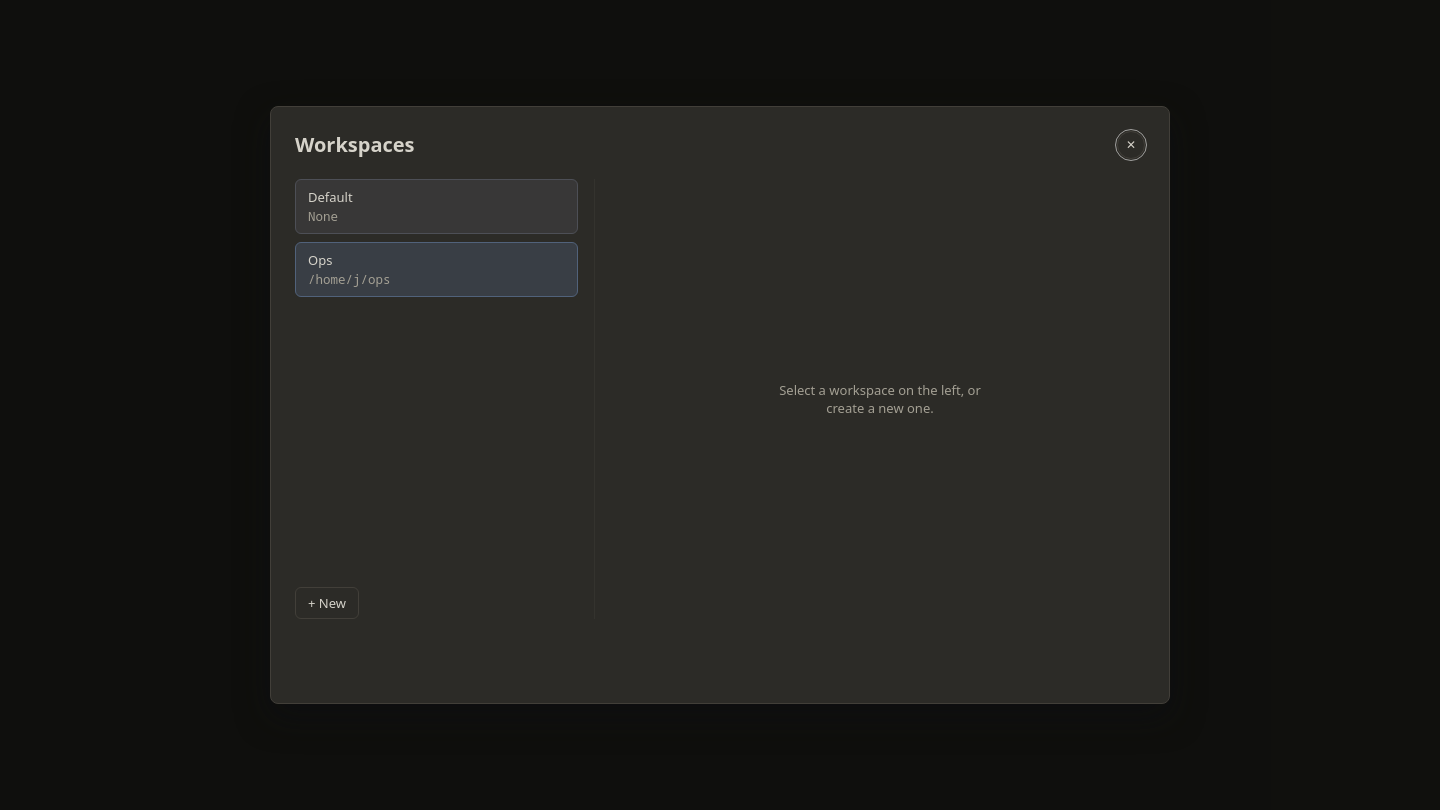
Test case: WorkspacesDialog › shows the operator-facing copy when a delete is blocked by live sessions
Step 1. Click the button with test id "workspace-select-w1" → (349, 280), box [296,243,577,296]
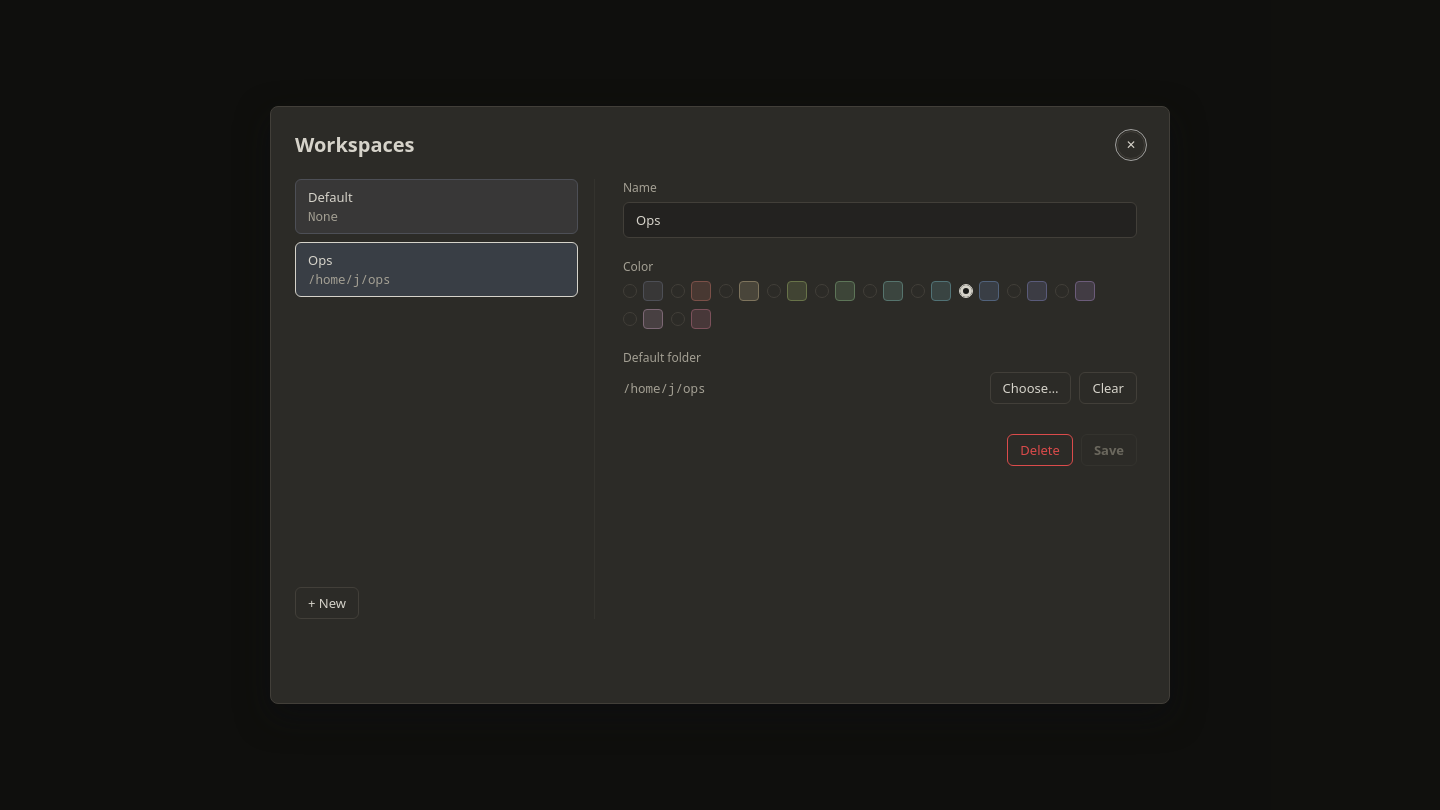
Step 2. Click the button with test id "workspace-delete-w1" → (1040, 450), box [1007,434,1073,466]
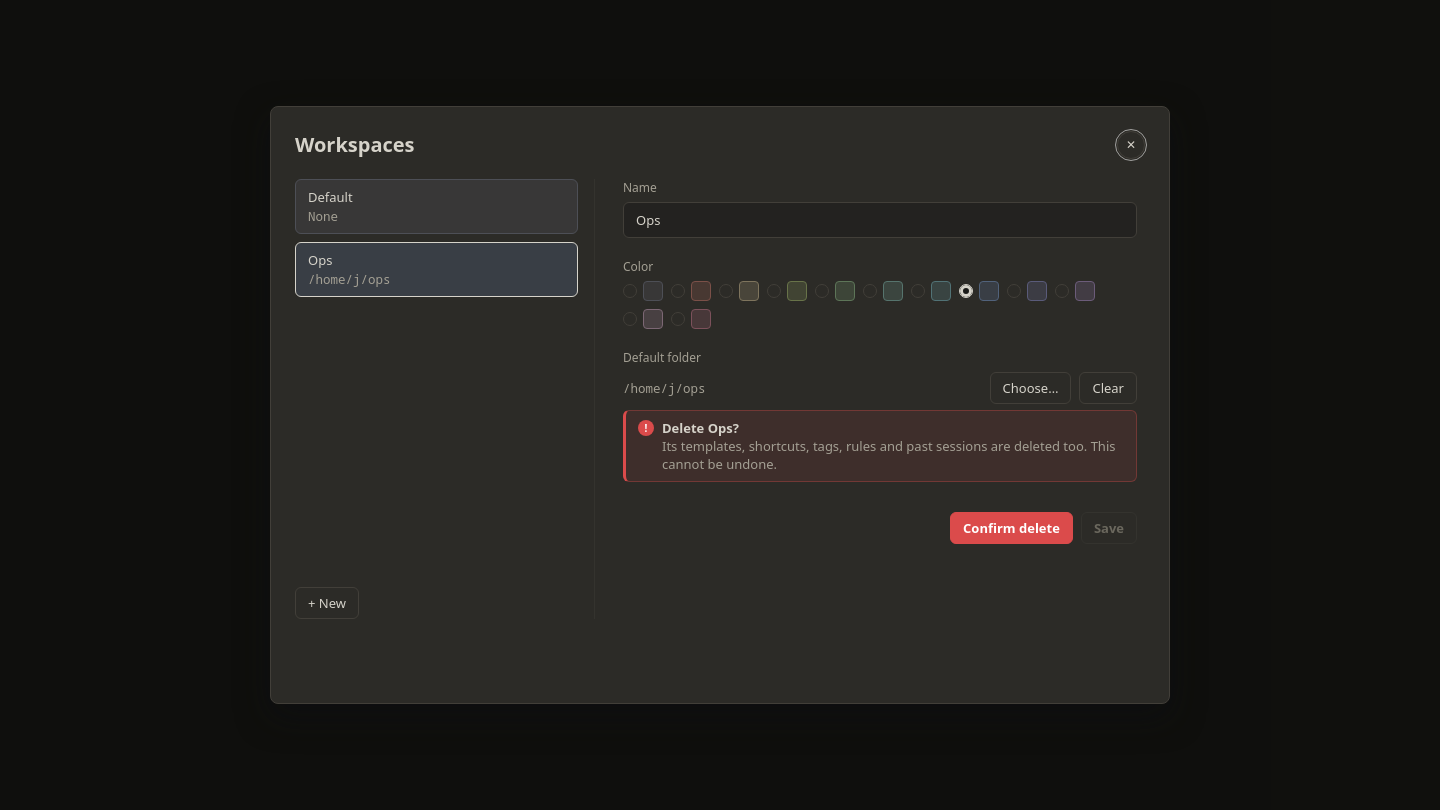
Step 3. Click the button with test id "workspace-delete-w1" → (1012, 528), box [950,512,1073,544]
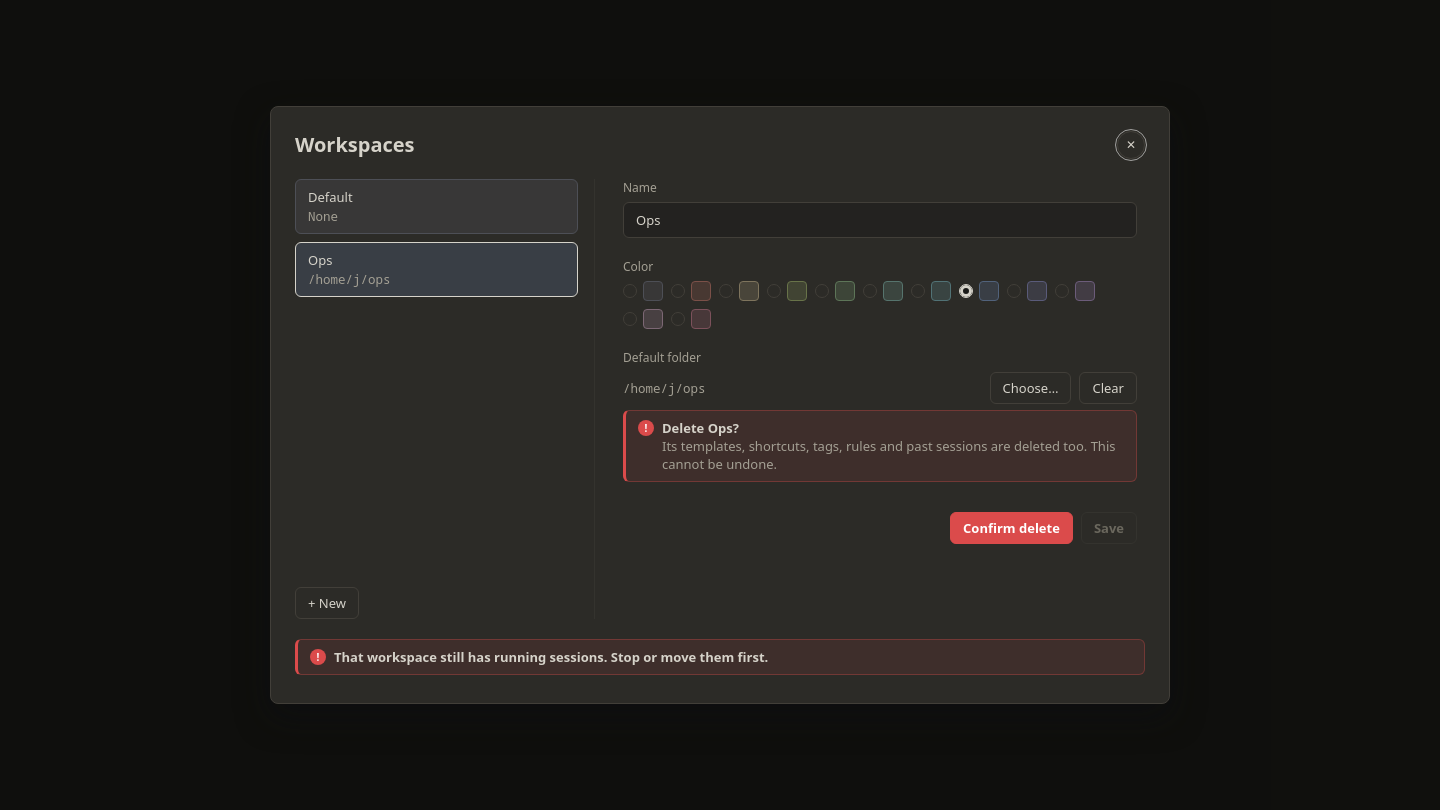
expect the message with test id "workspace-error" shows "still has running sessions": met, box [334,648,768,666]
